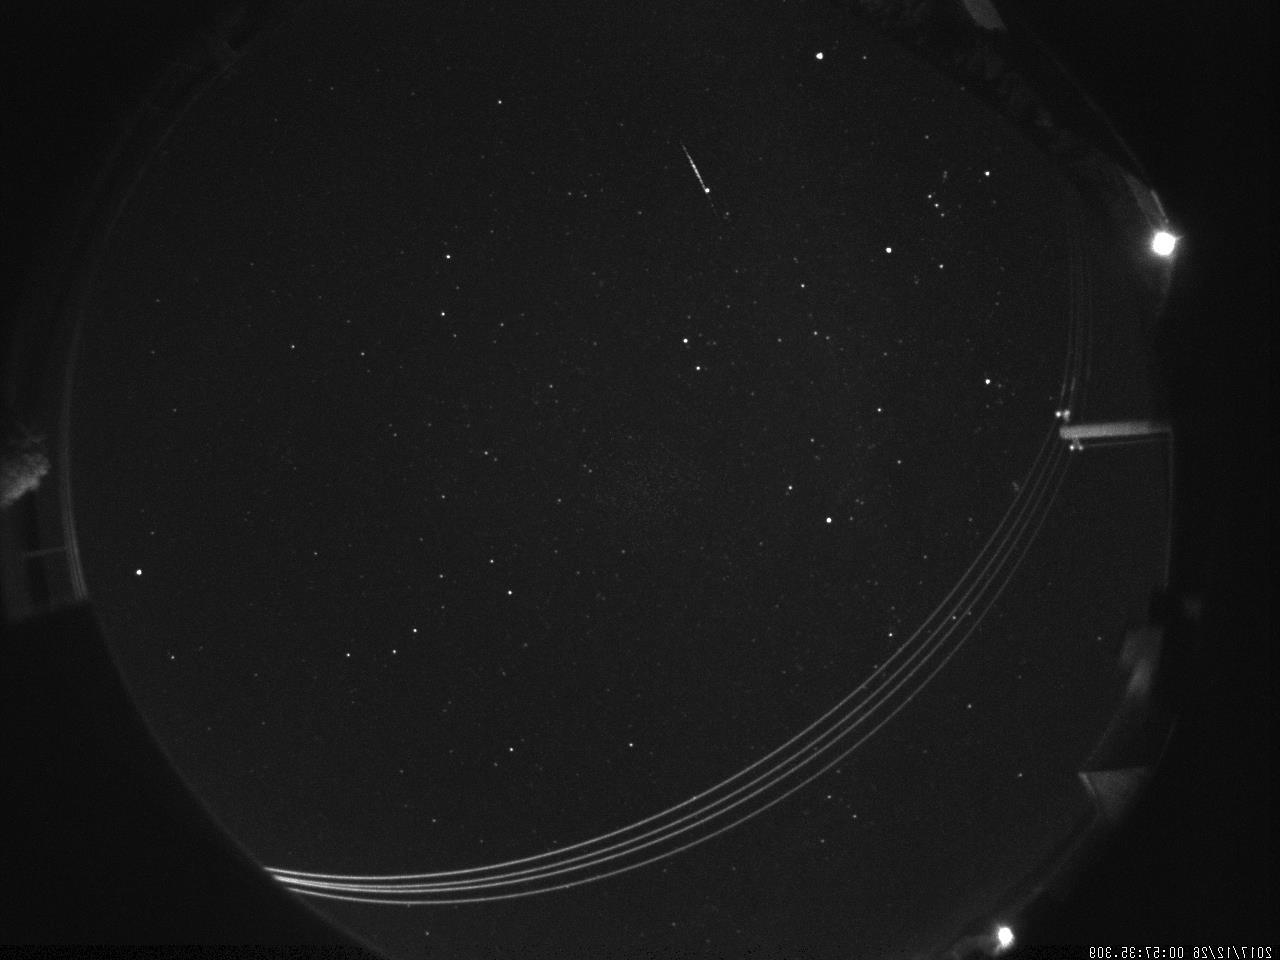meteor: (671, 142, 729, 221)
